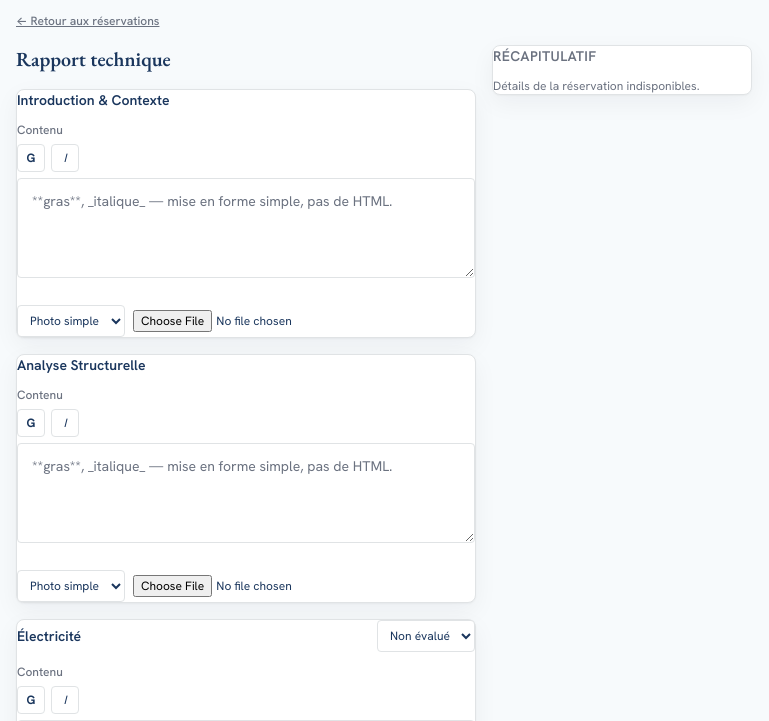
TechnicianReportEditor (US-REPORT-01) › le bouton Gras entoure la sélection de **
The width and height of the screenshot is (769, 721).
Expected: the heading "Introduction & Contexte" is shown, [17,90,170,110]
Type "attention" into the text box with placeholder "**gras**, _italique_ — mise en forme simple, pas de HTML." below "Introduction & Contexte" at (246, 228), box [17,178,475,278]
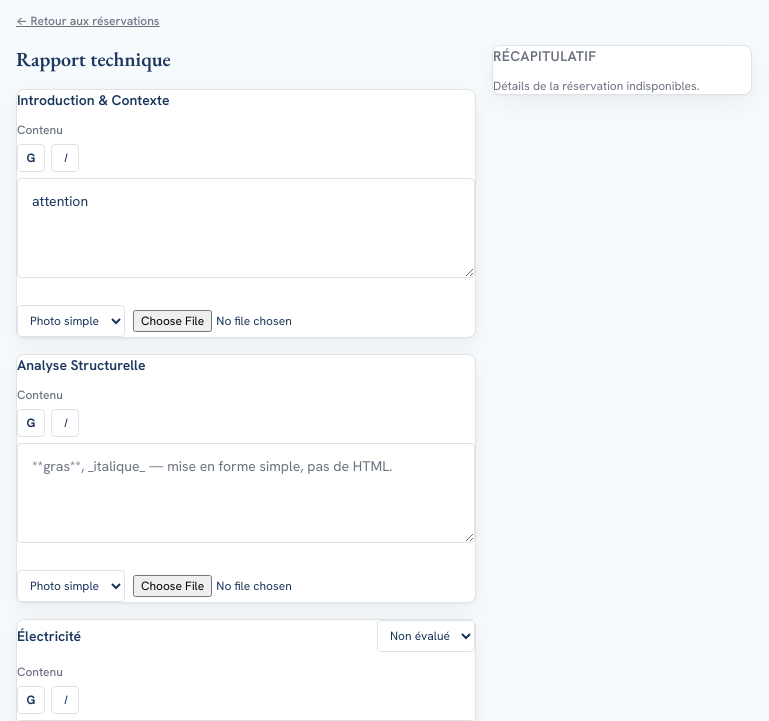
Click the button "G" below "Introduction & Contexte" at (31, 158), box [17,144,45,172]
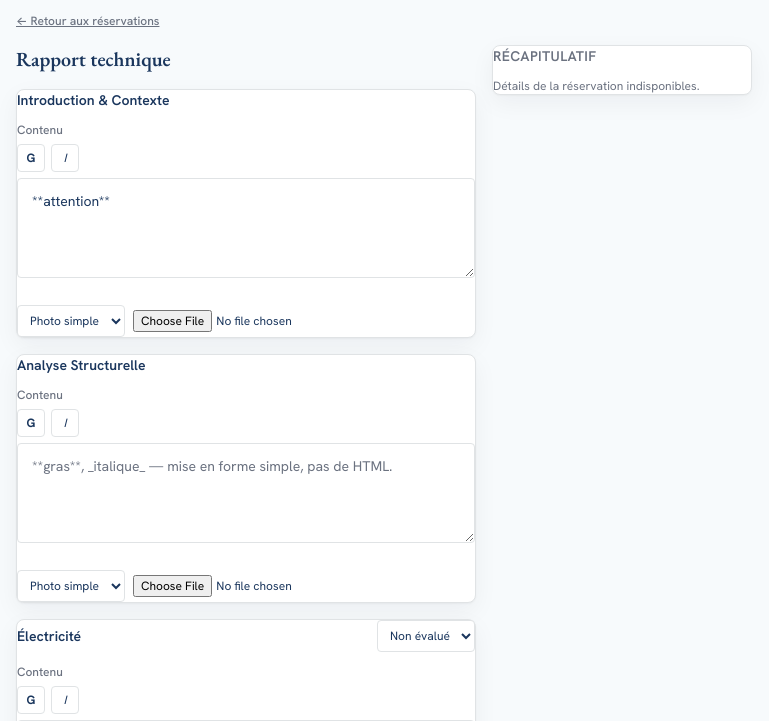
Expected: the 1st text box holds "**attention**", [17,178,475,278]
